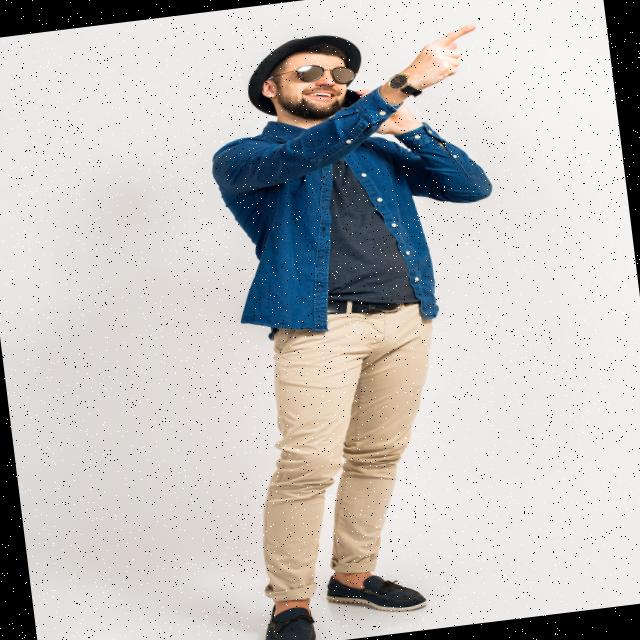Person: (191, 12, 552, 640)
